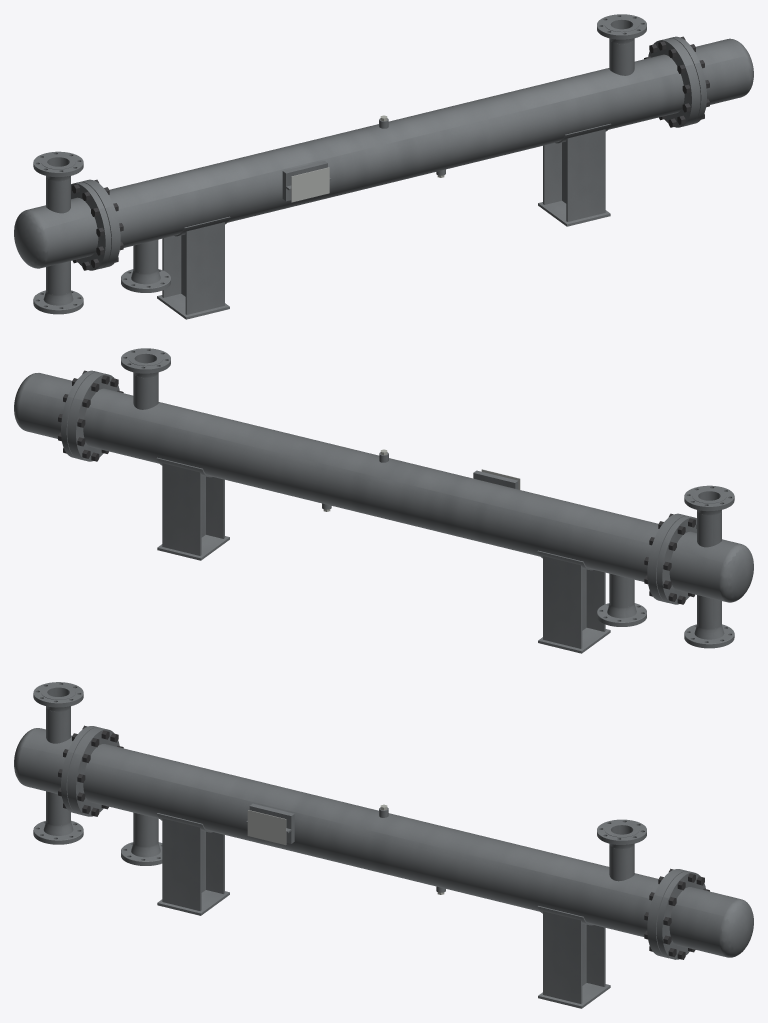
The model's file is shell-and-tube.glb.
3 views of the same model, one above another, from view 1: azimuth 30°, elevation 25°; view 2: azimuth 150°, elevation 25°; view 3: azimuth 330°, elevation 25° (orthographic).
Visible parts, largest first — view 1: Shell, Bonnet front, Saddle rear, Saddle front, Bonnet rear, Tubesheet rear, Channel inlet flange, Shell inlet flange, Nameplate, Channel outlet flange, Shell outlet flange, Tubesheet front (+7 smaller); view 2: Shell, Bonnet front, Saddle rear, Saddle front, Bonnet rear, Tubesheet rear, Channel inlet flange, Shell inlet flange, Channel outlet flange, Shell outlet flange, Tubesheet front, Shell inlet neck (+5 smaller); view 3: Shell, Bonnet rear, Saddle front, Saddle rear, Bonnet front, Tubesheet front, Channel inlet flange, Shell inlet flange, Nameplate, Channel outlet flange, Tubesheet rear, Shell outlet flange (+7 smaller).
Part boxes in pixels (x1,y1,x2,y2): Shell: [109, 54, 684, 247]; Bonnet front: [14, 182, 111, 270]; Saddle rear: [538, 129, 610, 226]; Saddle front: [157, 222, 229, 319]; Bonnet rear: [669, 36, 753, 124]; Tubesheet rear: [648, 38, 700, 127]; Channel inlet flange: [33, 151, 83, 181]; Shell inlet flange: [597, 14, 646, 44]; Nameplate: [291, 167, 329, 202]; Channel outlet flange: [33, 290, 83, 314]; Shell outlet flange: [121, 269, 170, 292]; Tubesheet front: [80, 179, 120, 268]; Shell: [83, 388, 658, 581]; Bonnet front: [656, 516, 753, 604]; Saddle rear: [157, 463, 229, 560]; Saddle front: [538, 556, 610, 653]; Bonnet rear: [14, 370, 98, 458]; Tubesheet rear: [67, 372, 119, 461]; Channel inlet flange: [684, 485, 734, 515]; Shell inlet flange: [121, 348, 170, 378]; Channel outlet flange: [684, 624, 734, 648]; Shell outlet flange: [597, 603, 646, 626]; Tubesheet front: [647, 513, 687, 602]; Shell inlet neck: [133, 373, 158, 409]; Shell: [83, 744, 658, 936]; Bonnet rear: [656, 871, 753, 959]; Saddle front: [157, 818, 229, 915]; Saddle rear: [538, 911, 610, 1008]; Bonnet front: [14, 726, 97, 813]; Tubesheet front: [67, 727, 119, 816]; Channel inlet flange: [33, 682, 83, 711]; Shell inlet flange: [597, 819, 646, 849]; Nameplate: [247, 810, 286, 845]; Channel outlet flange: [33, 820, 83, 844]; Tubesheet rear: [647, 869, 687, 958]; Shell outlet flange: [121, 842, 162, 865].
Size of the model in its own units: 3.81 by 0.8766 by 0.4062.
5 materials, 5 textured.
